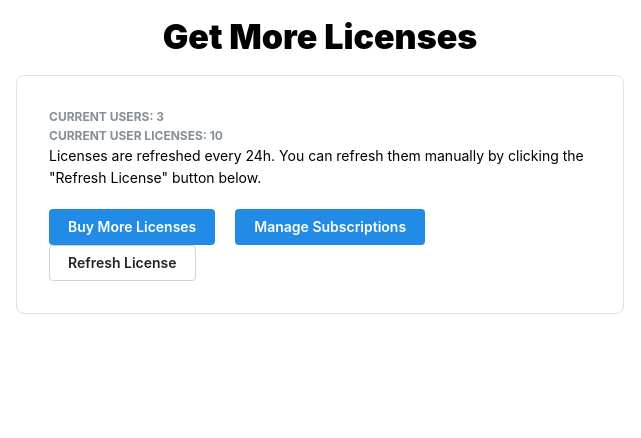
Test: GetMoreLicenses › shows license usage and refreshes on demand
Check: the heading "Get More Licenses" is shown, box [163,16,477,57]
Check: the text "Current Users: 3" is shown, box [49,109,164,124]
Step 1. Click the button "Refresh License" → point(122, 263), box [49,245,196,281]
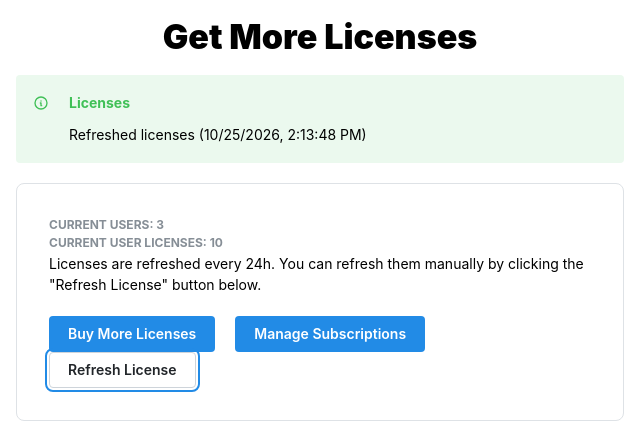
Check: the text "Refreshed licenses (10/25/2026, 2:13:48 PM)" is shown, box [69,126,367,143]
